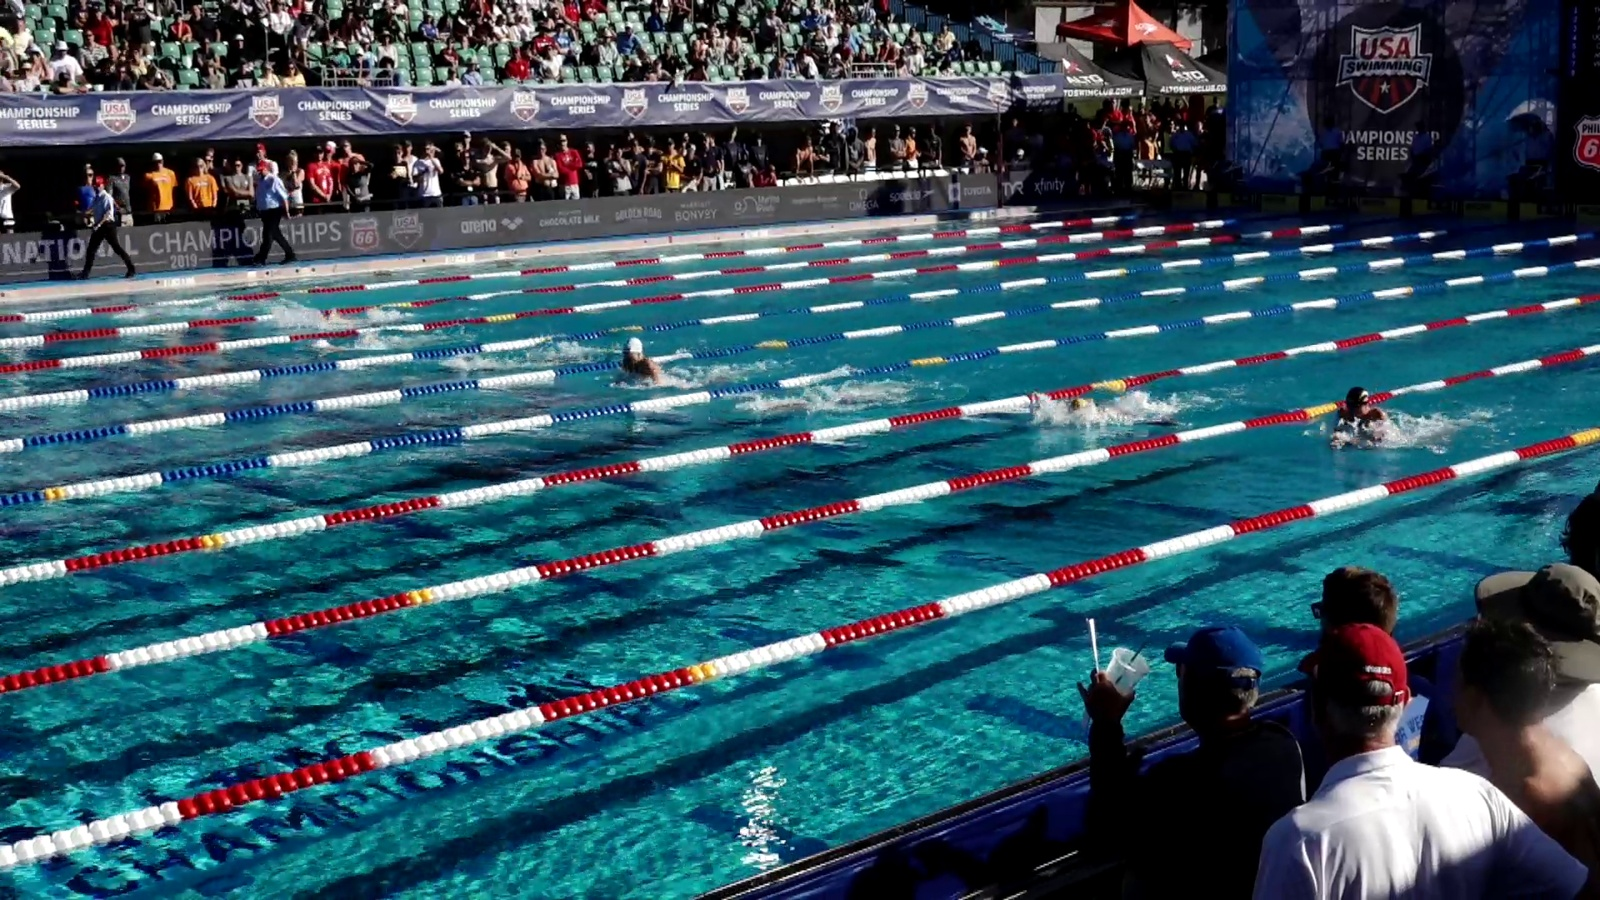swimmerw: (611, 337, 745, 387), (1327, 385, 1430, 449), (1038, 397, 1184, 433), (745, 392, 886, 427), (456, 353, 535, 376), (310, 337, 400, 356), (116, 307, 187, 324), (287, 315, 376, 329)
